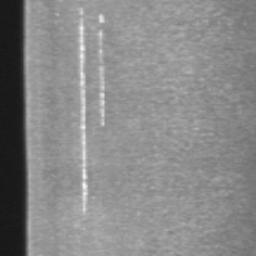Bright scratch: (79, 8, 88, 212), (99, 30, 105, 127)
